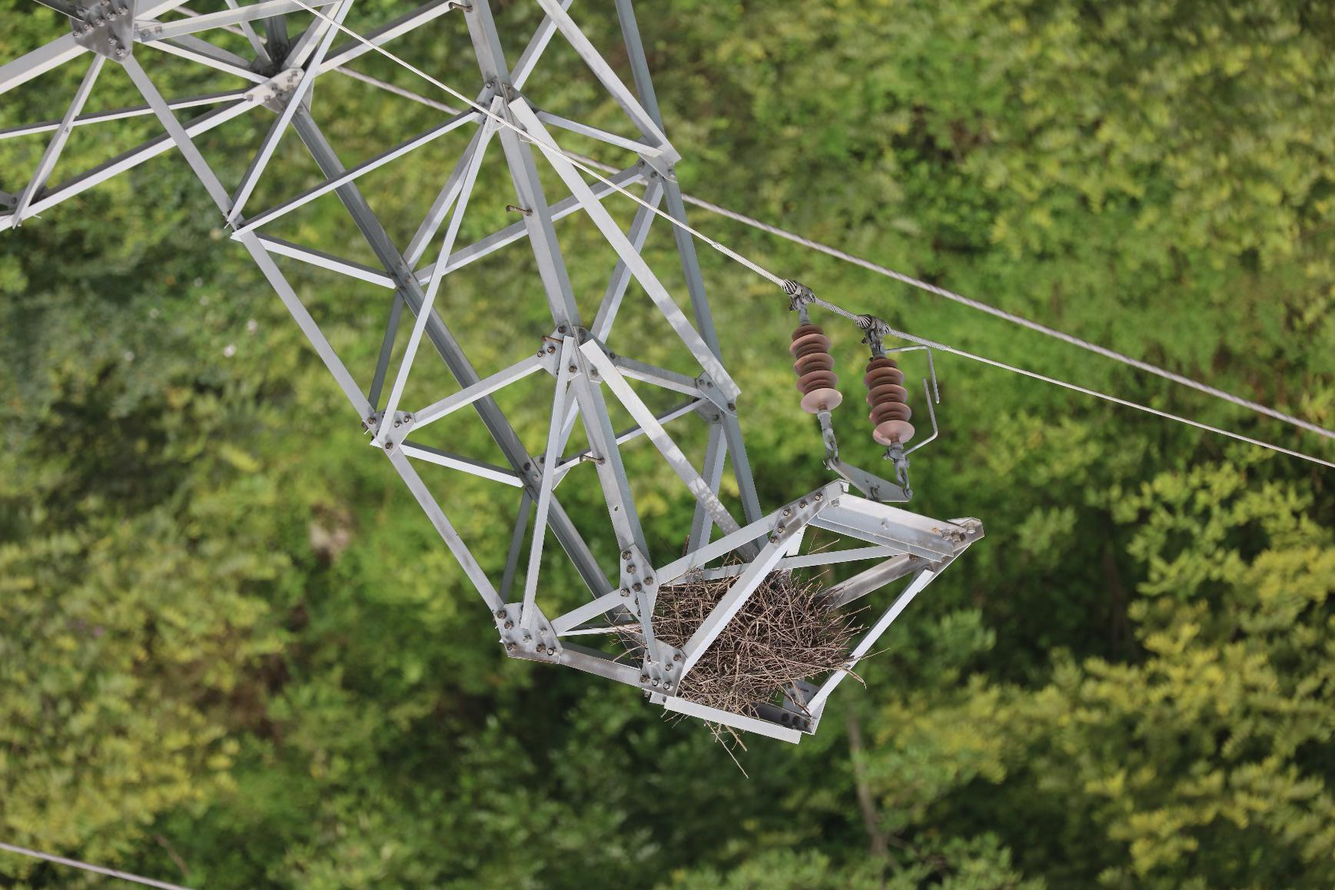nest: (649, 562, 860, 729)
